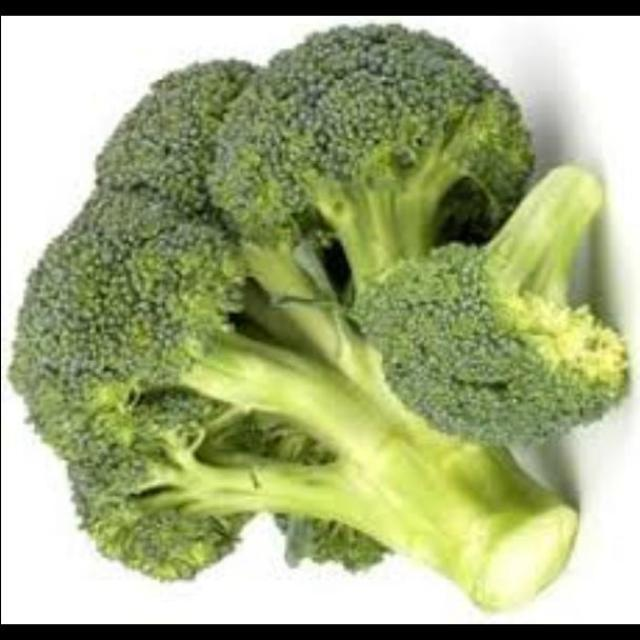Broccoli: (0, 16, 640, 613), (356, 112, 640, 458)
